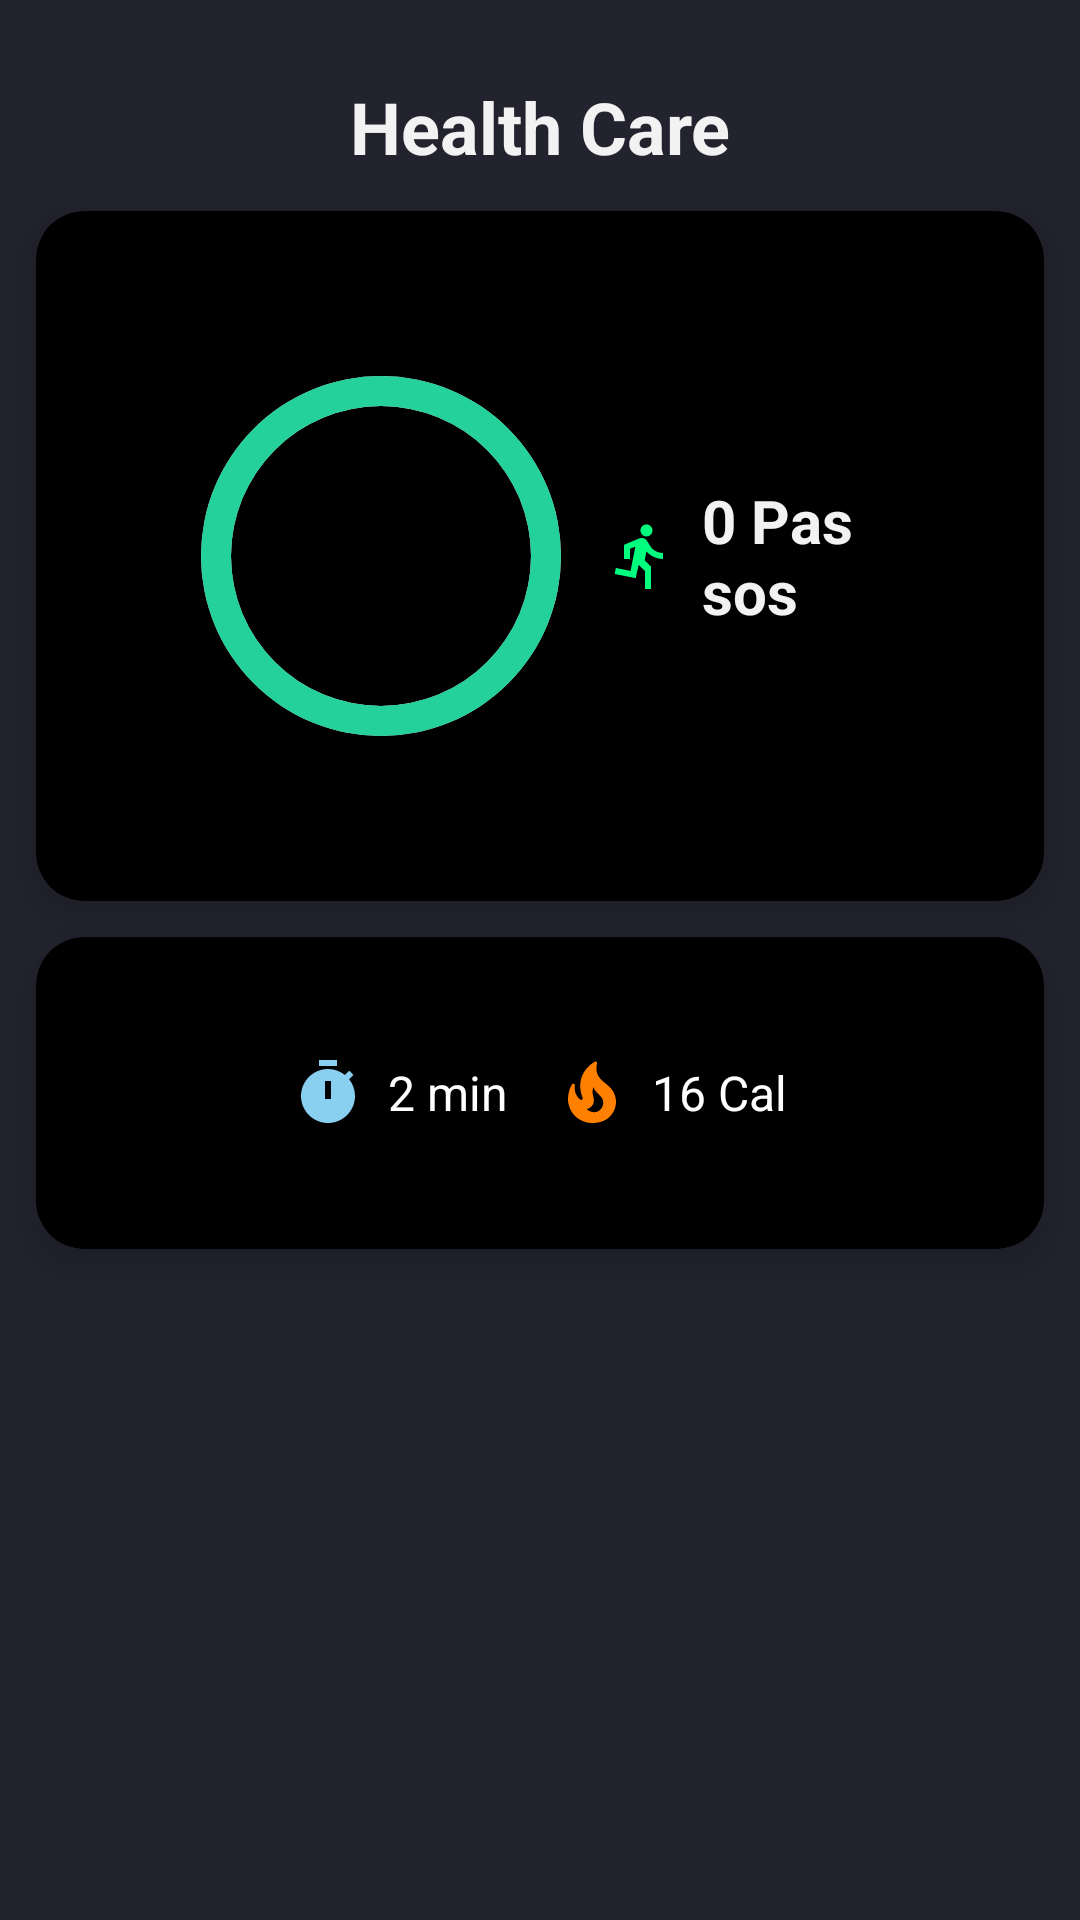

Where to tap for icons on this 1080×1920 app screen, as point (x, y):
fire: point (592, 1092)
steps: point (638, 556)
time: point (328, 1091)
